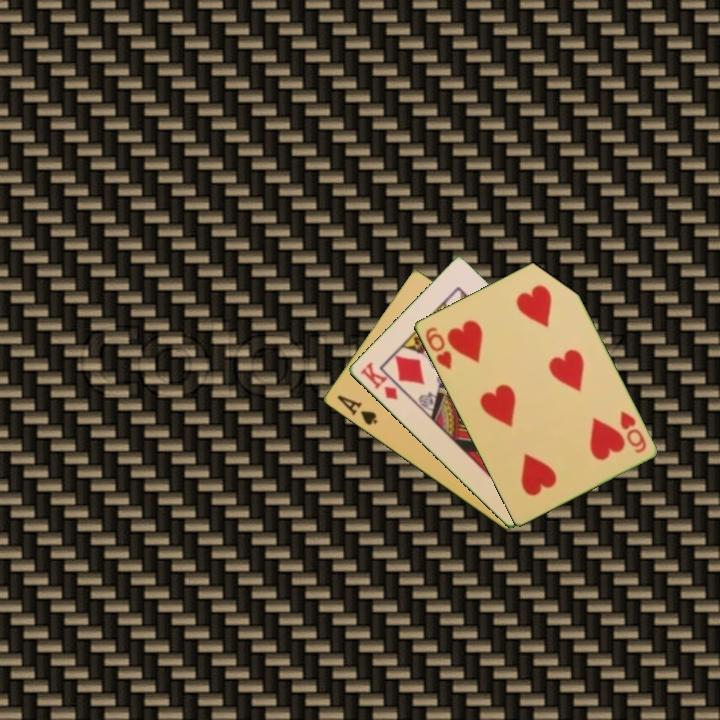6h: (421, 323, 454, 373), (616, 407, 649, 456)
As: (333, 392, 380, 428)
Kd: (356, 358, 401, 403)
